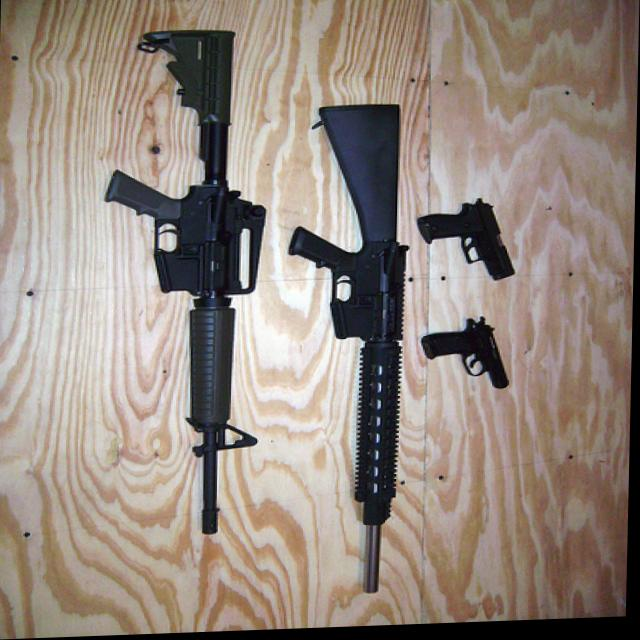handgun: (421, 200, 529, 287), (426, 312, 518, 395)
